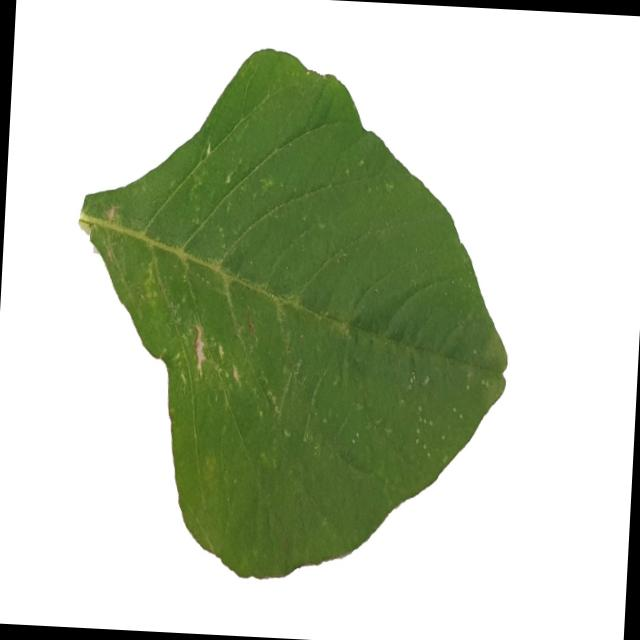Medicinal-Arive Dantu: (62, 33, 523, 592)
